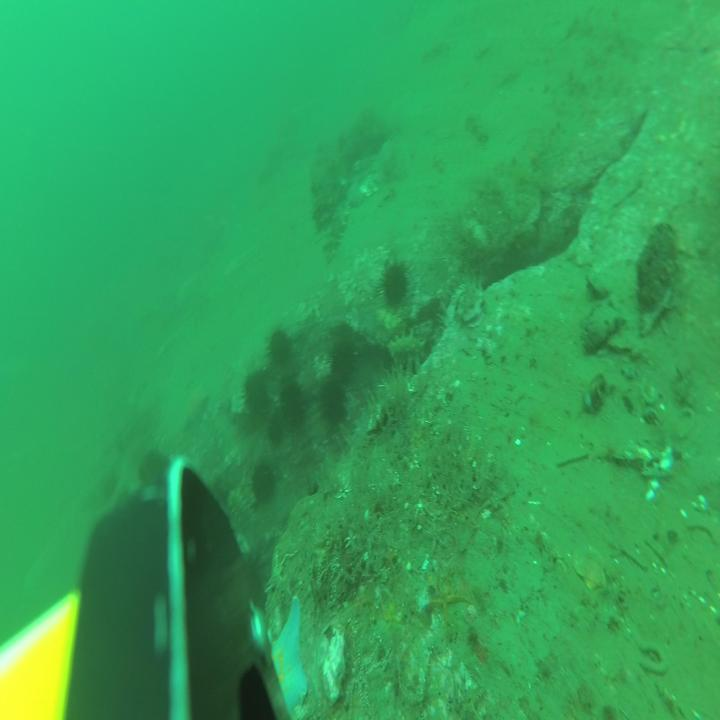echinus: (382, 260, 408, 312), (138, 450, 168, 488), (246, 369, 267, 422), (267, 328, 291, 374), (281, 383, 304, 427), (320, 378, 342, 422), (253, 460, 274, 502), (332, 346, 353, 386), (268, 409, 282, 443)
holothurian: (386, 329, 426, 374), (322, 201, 348, 268), (464, 112, 486, 146), (422, 40, 450, 63), (431, 155, 447, 176)
scallop: (574, 544, 606, 590), (362, 171, 381, 199), (474, 38, 491, 60)
starfish: (269, 595, 307, 720), (433, 569, 468, 630), (382, 595, 404, 630)
